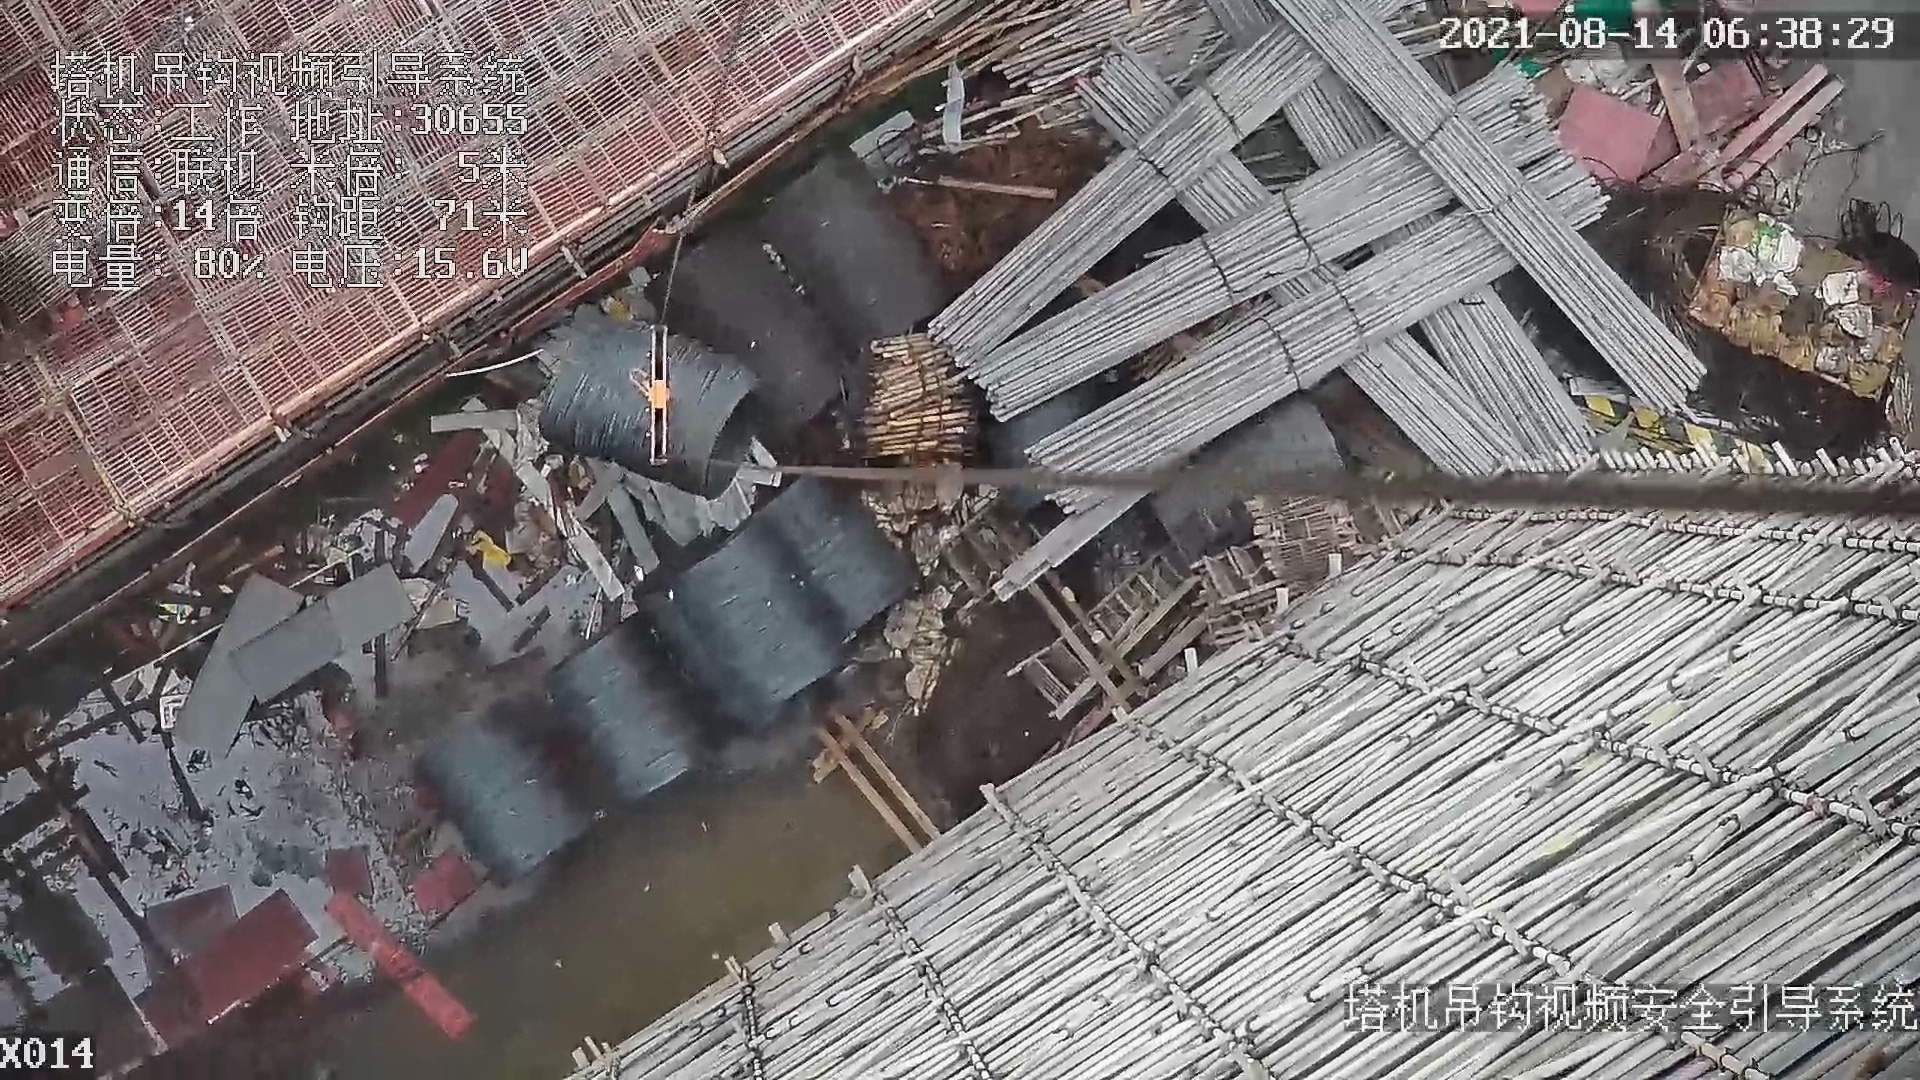hook: (626, 315, 676, 471)
